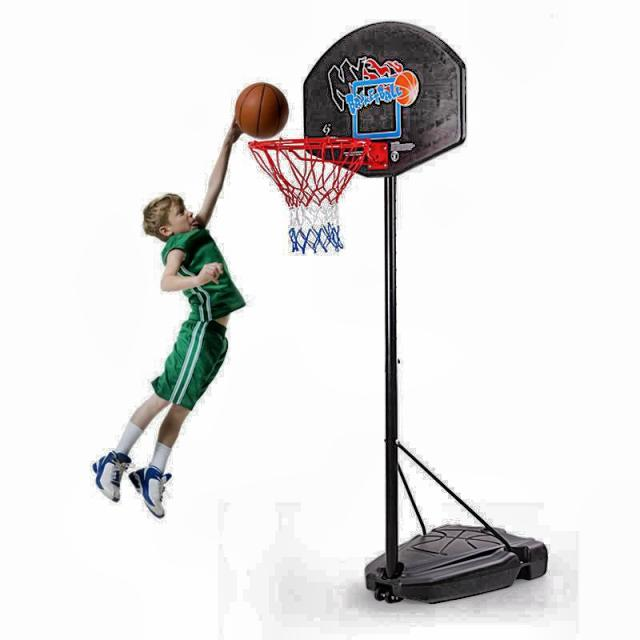board: (233, 82, 290, 139)
rim: (246, 138, 372, 256)
